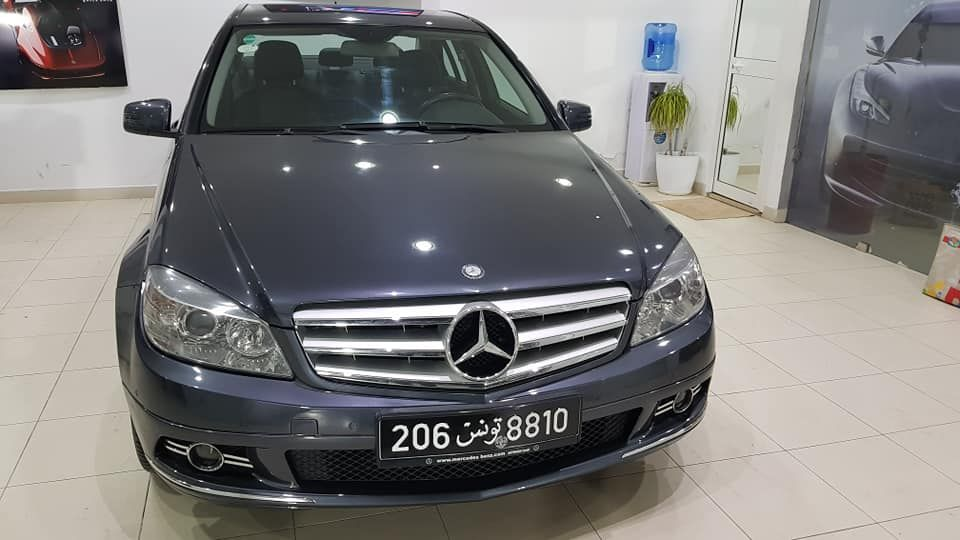LP: (380, 393, 582, 459)
